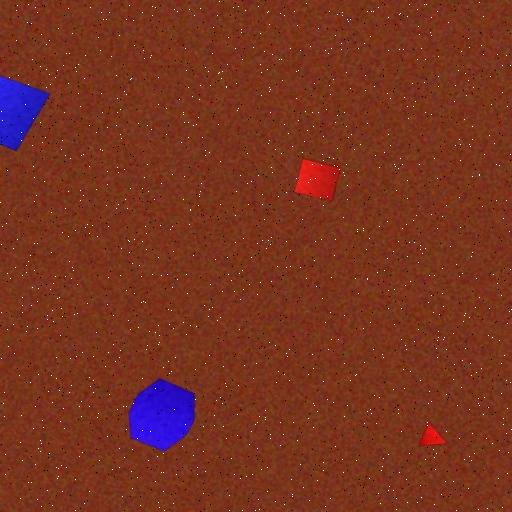BLUE_SQUARE: (0, 69, 50, 152)
RED_SQUARE: (294, 158, 342, 202)
